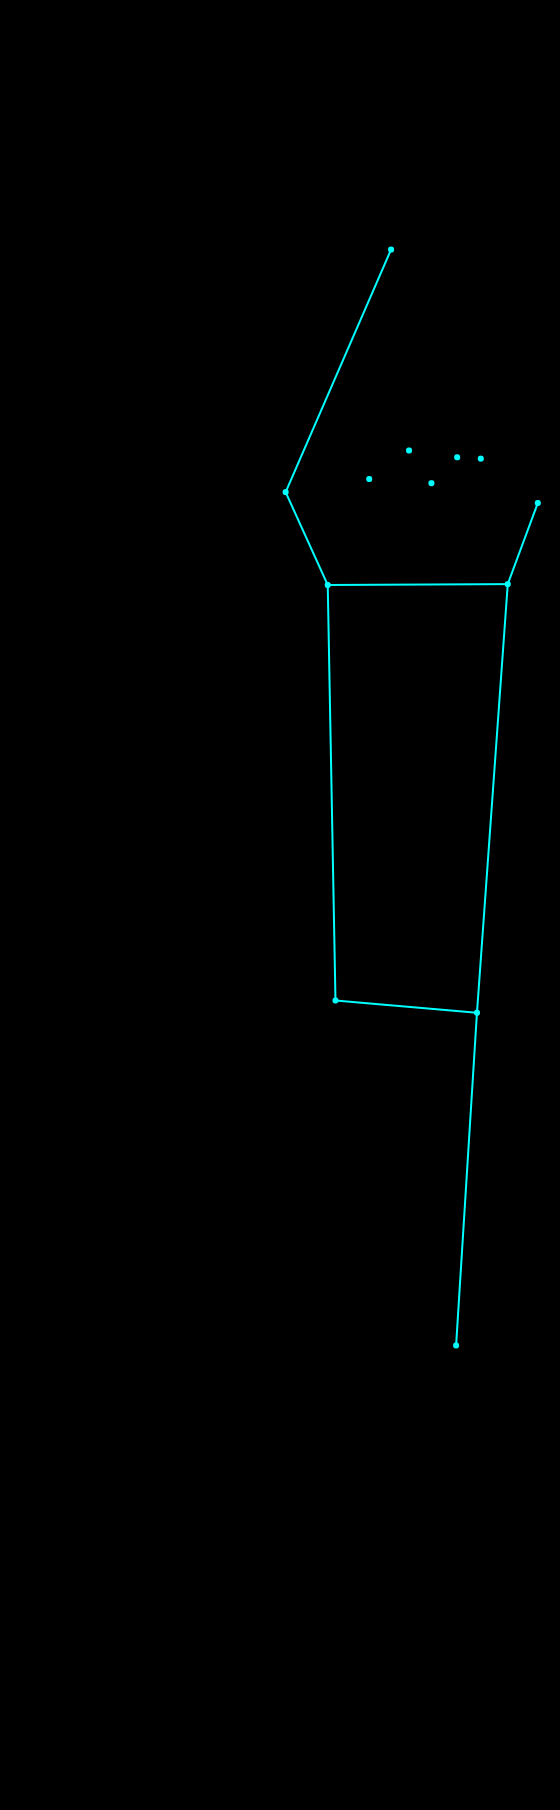tree: (232, 223, 560, 1361)
